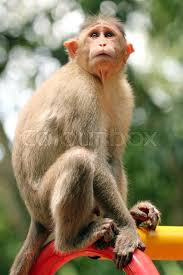monkey: (16, 5, 163, 250)
